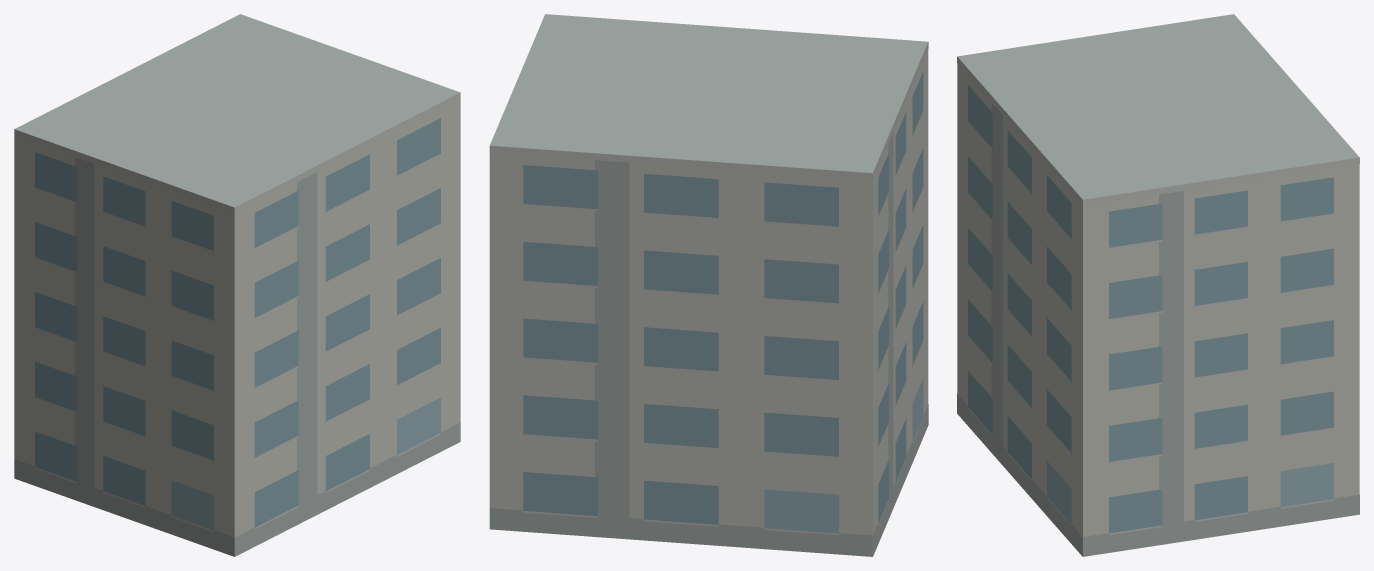
The model's file is survey-upis-32865632.glb.
3 renders of one model, left to right at view 1: azimuth 30°, elevation 25°; view 2: azimuth 150°, elevation 25°; view 3: azimuth 270°, elevation 25°, orthographic. The views are drawn at different scales.
Visible parts, largest first — view 1: survey-upis-32865632.tmp; view 2: survey-upis-32865632.tmp; view 3: survey-upis-32865632.tmp.
Part boxes in pixels (x1,y1,x2,y2): survey-upis-32865632.tmp: [14, 14, 460, 556]; survey-upis-32865632.tmp: [489, 14, 928, 556]; survey-upis-32865632.tmp: [957, 14, 1359, 556].
Size of the model in its own units: 15.07 by 13.5 by 13.8.
